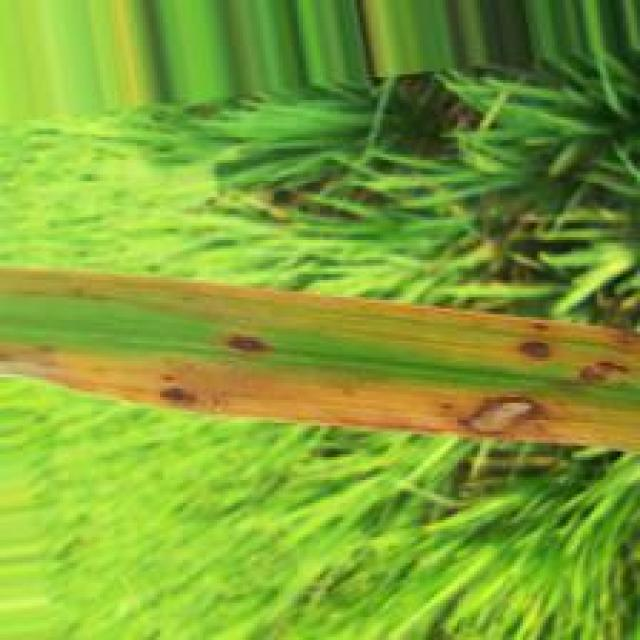Leaf_Blast: (452, 394, 554, 438), (571, 359, 629, 388), (150, 384, 204, 409), (507, 336, 563, 360), (225, 329, 275, 355)
